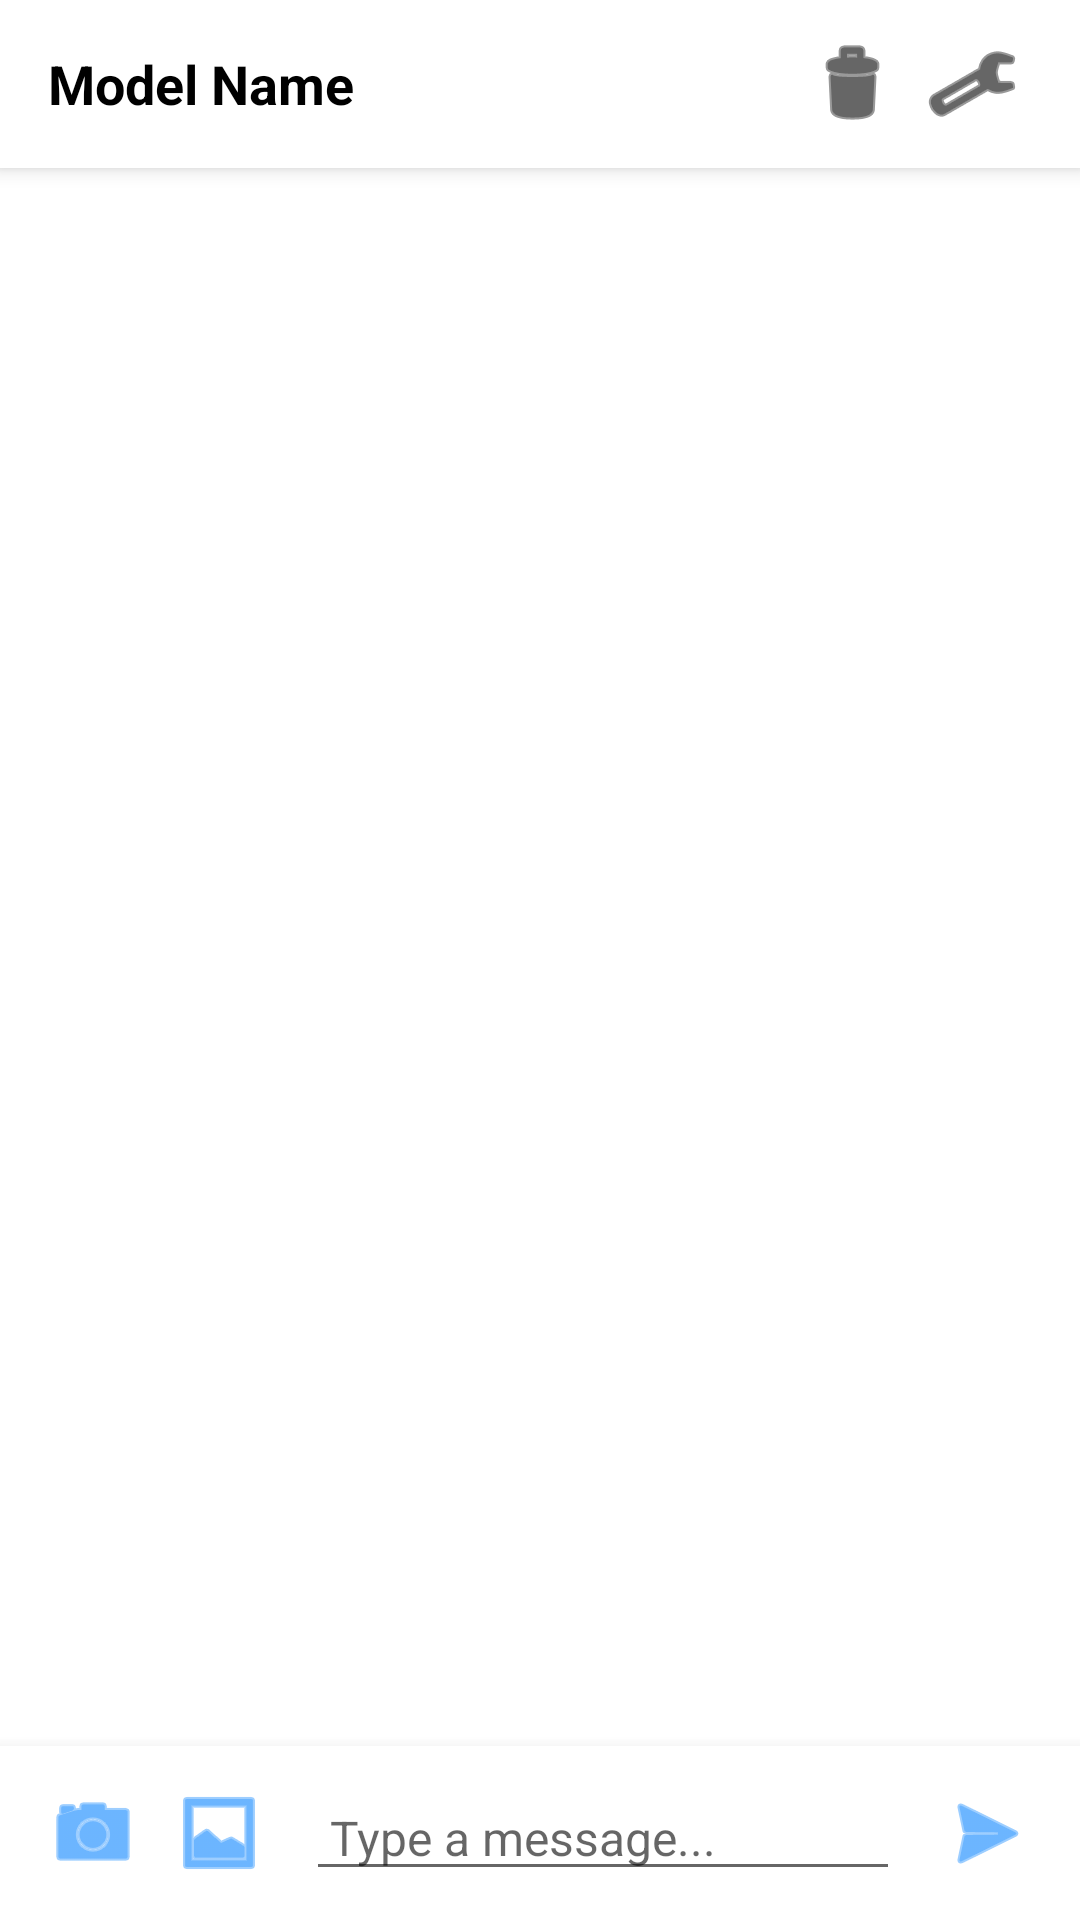

Point at icon controls on the screen. Image size 1080px×1920px, points as (x=x, y=y).
Attach: (x=219, y=1833)
Camera: (x=93, y=1831)
Clear chat: (x=852, y=82)
Send: (x=988, y=1833)
Settings: (x=972, y=84)
